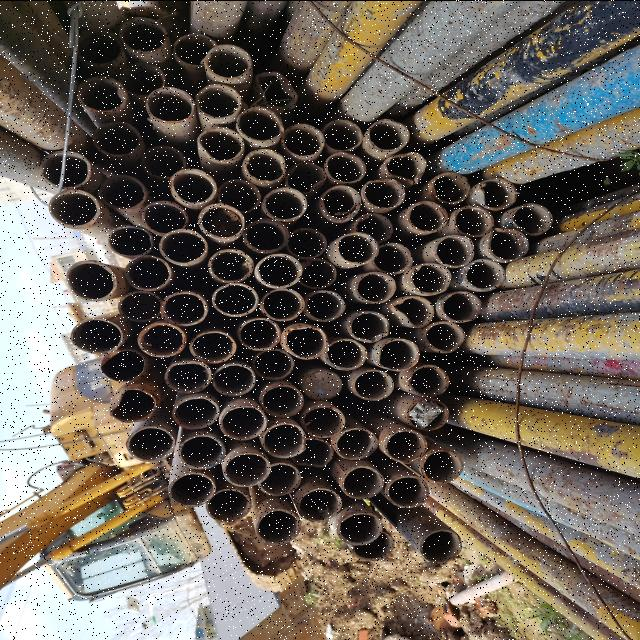pipe: (33, 146, 97, 190), (46, 186, 102, 230), (74, 74, 134, 115), (63, 257, 118, 301), (166, 164, 220, 208), (104, 382, 160, 423), (197, 201, 251, 243), (159, 225, 211, 268), (96, 170, 149, 212), (68, 316, 126, 354), (204, 40, 256, 82), (124, 423, 178, 463), (194, 80, 244, 122), (73, 27, 128, 65), (250, 70, 302, 110), (256, 380, 308, 420), (170, 394, 222, 434), (235, 104, 284, 146), (92, 119, 146, 157), (122, 252, 176, 290), (135, 320, 189, 358), (240, 146, 290, 186), (254, 252, 306, 290), (334, 510, 386, 548), (336, 464, 388, 502), (146, 85, 196, 124), (165, 470, 216, 508), (253, 506, 306, 542), (119, 15, 169, 53), (206, 246, 256, 284), (260, 421, 310, 459), (317, 182, 363, 223), (196, 126, 248, 162), (142, 199, 190, 238), (217, 404, 269, 440), (176, 432, 228, 468), (280, 323, 332, 359), (214, 176, 263, 214), (222, 450, 272, 487), (121, 61, 167, 101), (210, 282, 261, 318), (172, 28, 220, 66), (106, 222, 156, 258), (279, 120, 329, 156), (364, 116, 414, 152), (380, 148, 430, 184), (242, 218, 292, 254), (381, 428, 431, 464), (382, 472, 432, 508), (414, 528, 464, 564), (140, 142, 187, 180), (160, 290, 209, 326), (163, 358, 213, 393), (205, 487, 253, 523), (301, 287, 349, 323), (300, 403, 348, 439), (404, 260, 456, 293), (209, 362, 258, 397), (188, 328, 236, 363), (332, 426, 380, 461), (418, 447, 464, 483), (297, 487, 343, 523), (428, 170, 476, 204), (285, 226, 333, 260), (344, 309, 392, 343), (374, 337, 422, 371), (298, 367, 346, 401), (250, 348, 298, 382), (391, 292, 436, 328), (351, 368, 398, 402), (257, 462, 304, 496), (100, 349, 148, 382), (319, 117, 363, 153), (360, 176, 408, 209), (322, 151, 368, 185), (238, 316, 284, 350), (260, 288, 306, 322), (115, 291, 167, 321), (486, 226, 530, 261), (430, 235, 478, 267), (335, 232, 383, 264), (349, 530, 397, 562), (464, 257, 506, 293), (352, 272, 399, 304), (452, 206, 500, 237), (296, 258, 341, 291), (422, 321, 468, 353), (405, 398, 451, 430), (476, 177, 520, 210), (370, 241, 414, 274), (438, 292, 483, 324), (284, 162, 326, 196), (510, 203, 554, 235), (408, 364, 452, 396), (406, 200, 448, 232), (354, 212, 396, 244), (292, 438, 334, 470)
